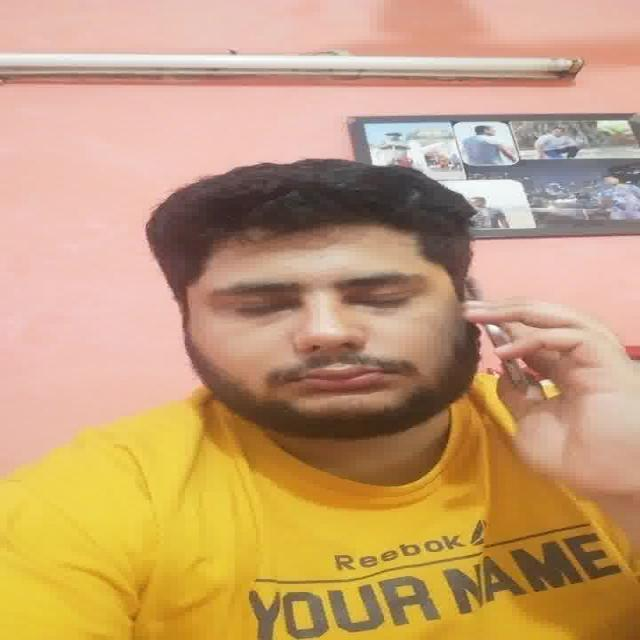Phone: (464, 271, 529, 396)
